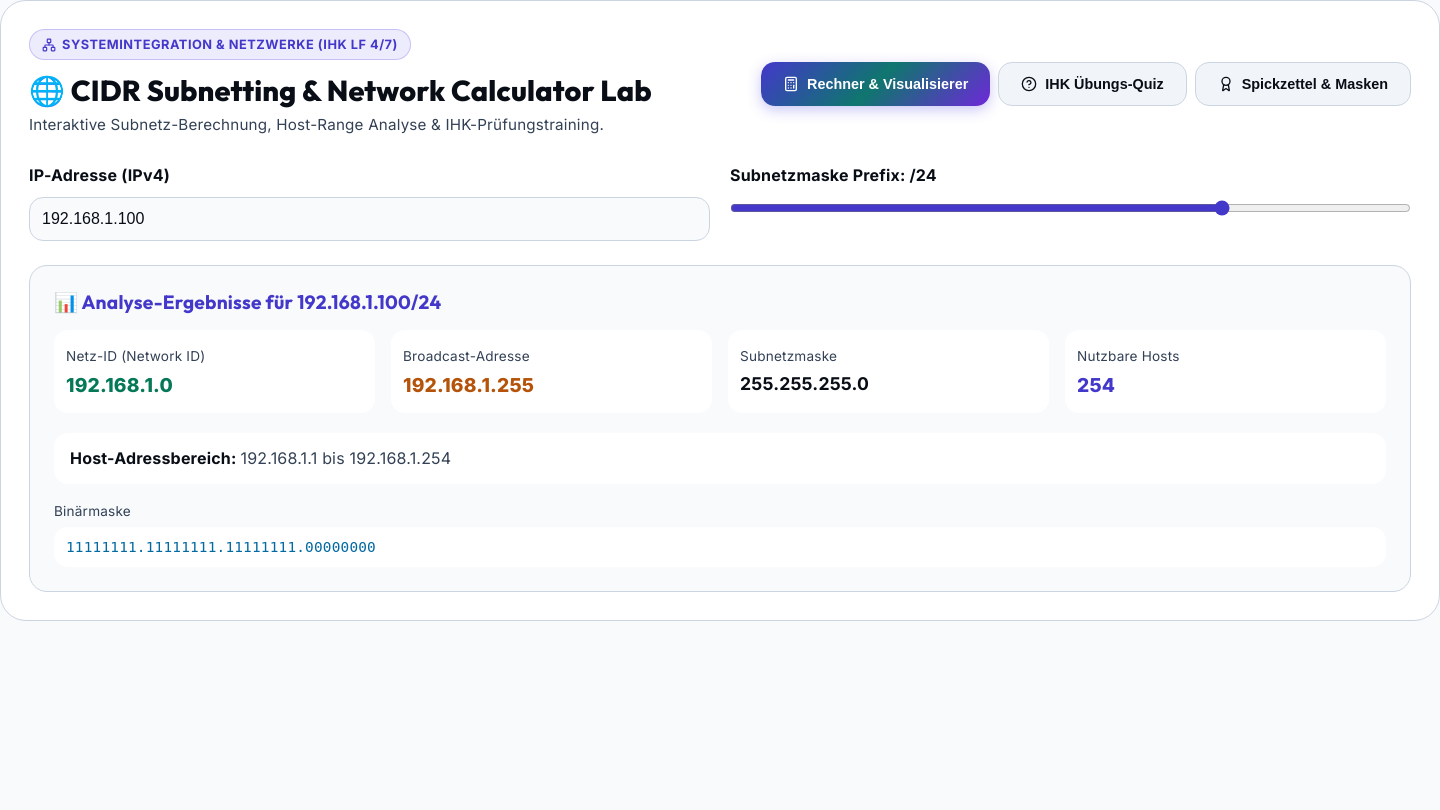
Test case: SubnettingLab Unit Tests › aktualisiert Netzwerk-ID und Broadcast bei Eingabe einer neuen IP
In the field showing "192.168.1.100": (370, 219) left=29, top=197, right=710, bottom=241, type "10.0.0.50"
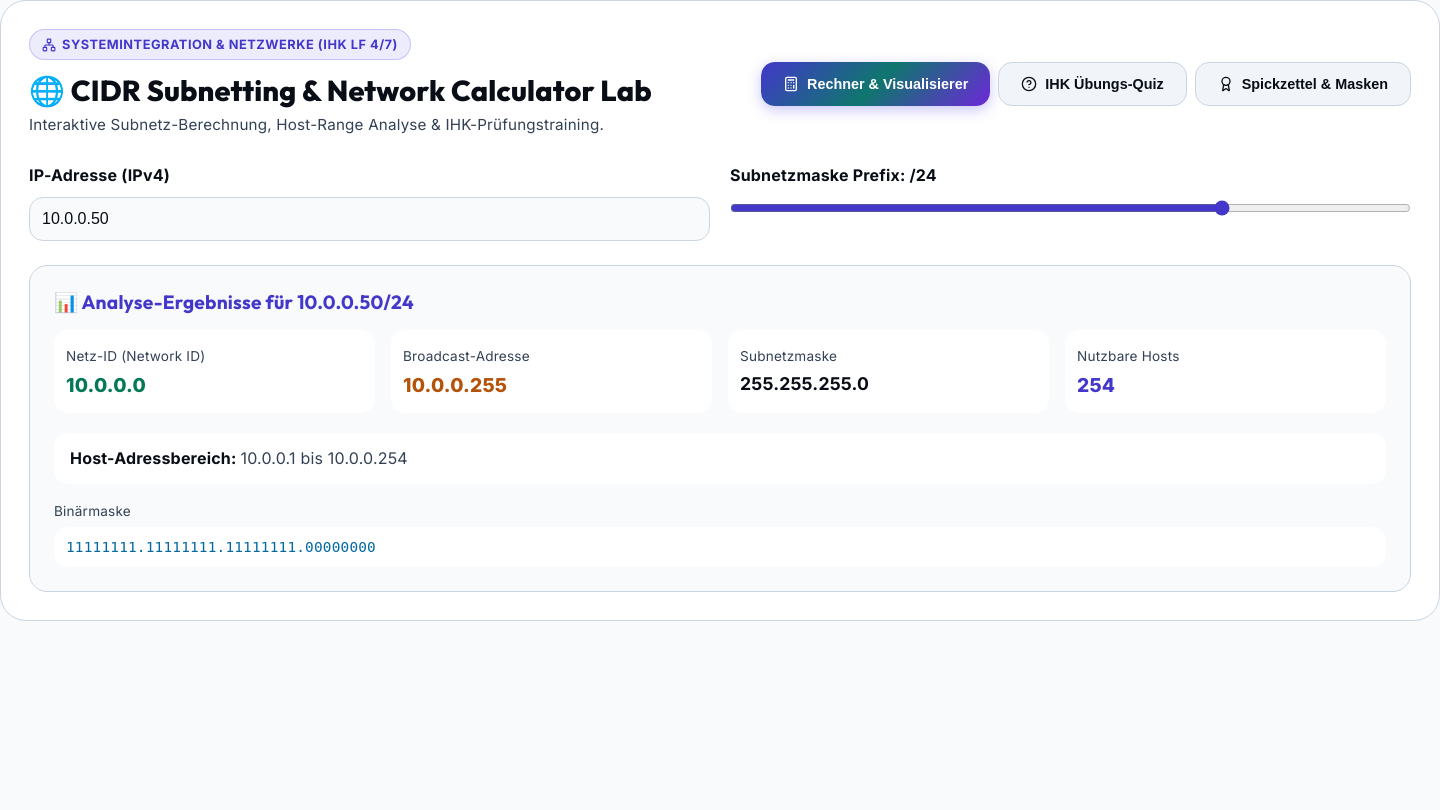
Expected: the text "10.0.0.0" is shown, left=66, top=373, right=146, bottom=397
Expected: the text "10.0.0.255" is shown, left=403, top=373, right=507, bottom=397
